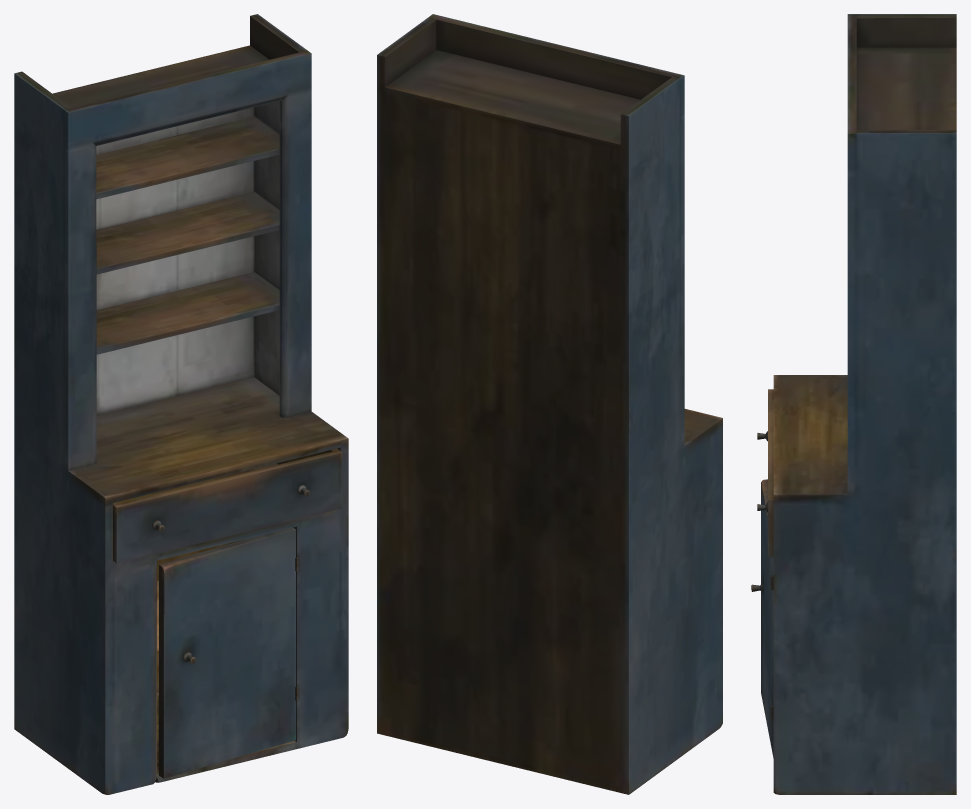
Rendered from m_painted_wooden_cabinet_02.glb.
3 renders of one model, left to right at view 1: azimuth 30°, elevation 25°; view 2: azimuth 150°, elevation 25°; view 3: azimuth 270°, elevation 25°, orthographic. The views are drawn at different scales.
Parts seen in each view (by area): view 1: painted_wooden_cabinet_02; view 2: painted_wooden_cabinet_02; view 3: painted_wooden_cabinet_02.
Part boxes in pixels (x1=…): painted_wooden_cabinet_02: x1=14, y1=14, x2=348, y2=794; painted_wooden_cabinet_02: x1=377, y1=14, x2=722, y2=794; painted_wooden_cabinet_02: x1=751, y1=14, x2=956, y2=794.
Bounding box in the file's own units: 0.9969 × 2.57 × 0.7225.
Materials: 1 (1 with a texture image).
